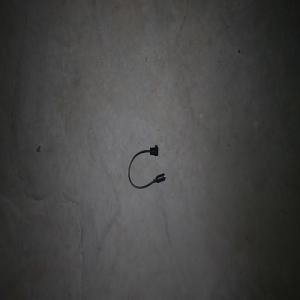Wire: (128, 144, 166, 189)
